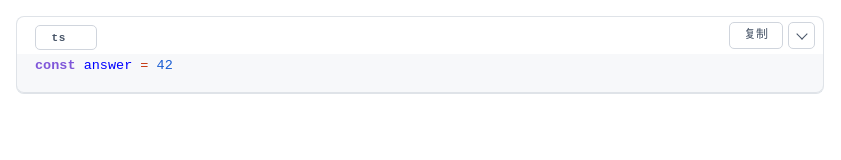
Scenario: Editor › Markdown 语法高亮 › 应该复制所见即所得代码块内容
Click the button with aria-label "复制代码" at (756, 36), box top-left (729, 22), bottom-right (783, 49)
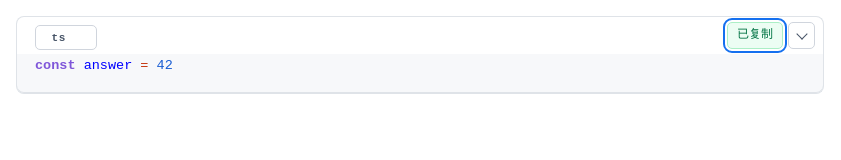
Expected: the button with aria-label "复制代码" reads "已复制", top-left (727, 22), bottom-right (783, 49)
